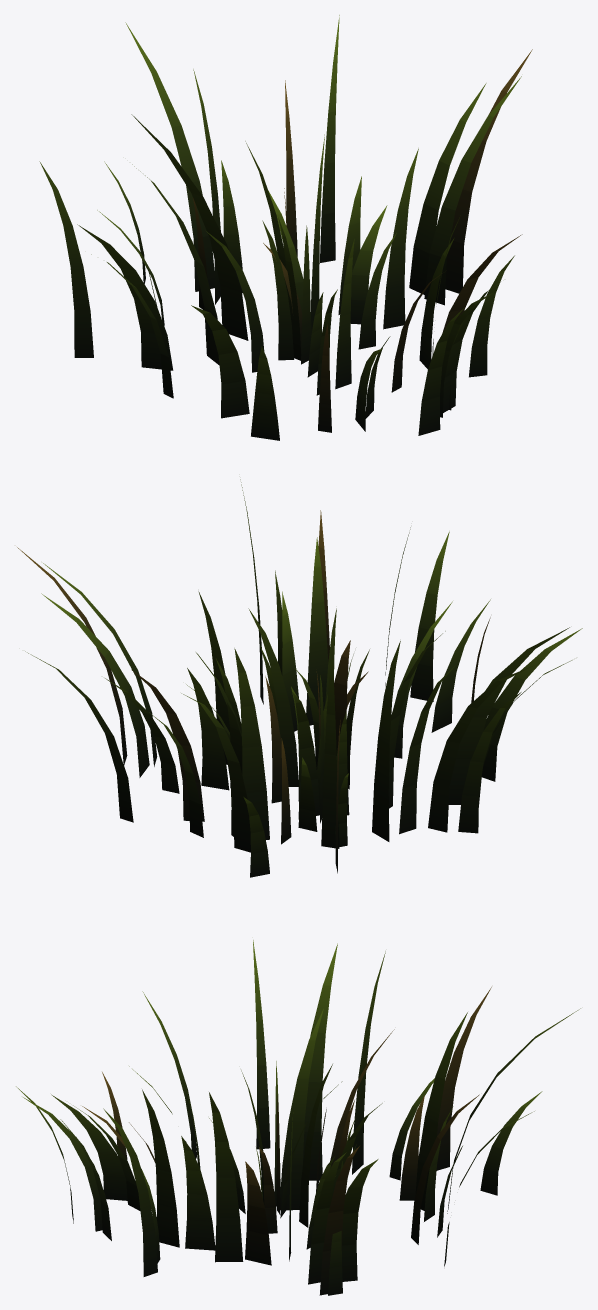
The model's file is SM_V2_Grass_A.fbx.
3 views of the same model, one above another, from view 1: azimuth 30°, elevation 25°; view 2: azimuth 150°, elevation 25°; view 3: azimuth 270°, elevation 25° (orthographic). The views are drawn at different scales.
Visible parts, largest first — view 1: SM_V2_Grass_A; view 2: SM_V2_Grass_A; view 3: SM_V2_Grass_A.
Part boxes in pixels (x1,y1,x2,y2): SM_V2_Grass_A: (39, 15, 532, 440); SM_V2_Grass_A: (17, 479, 582, 877); SM_V2_Grass_A: (16, 940, 580, 1295).
Bounding box in the file's own units: 1.1 × 0.4435 × 1.12.
